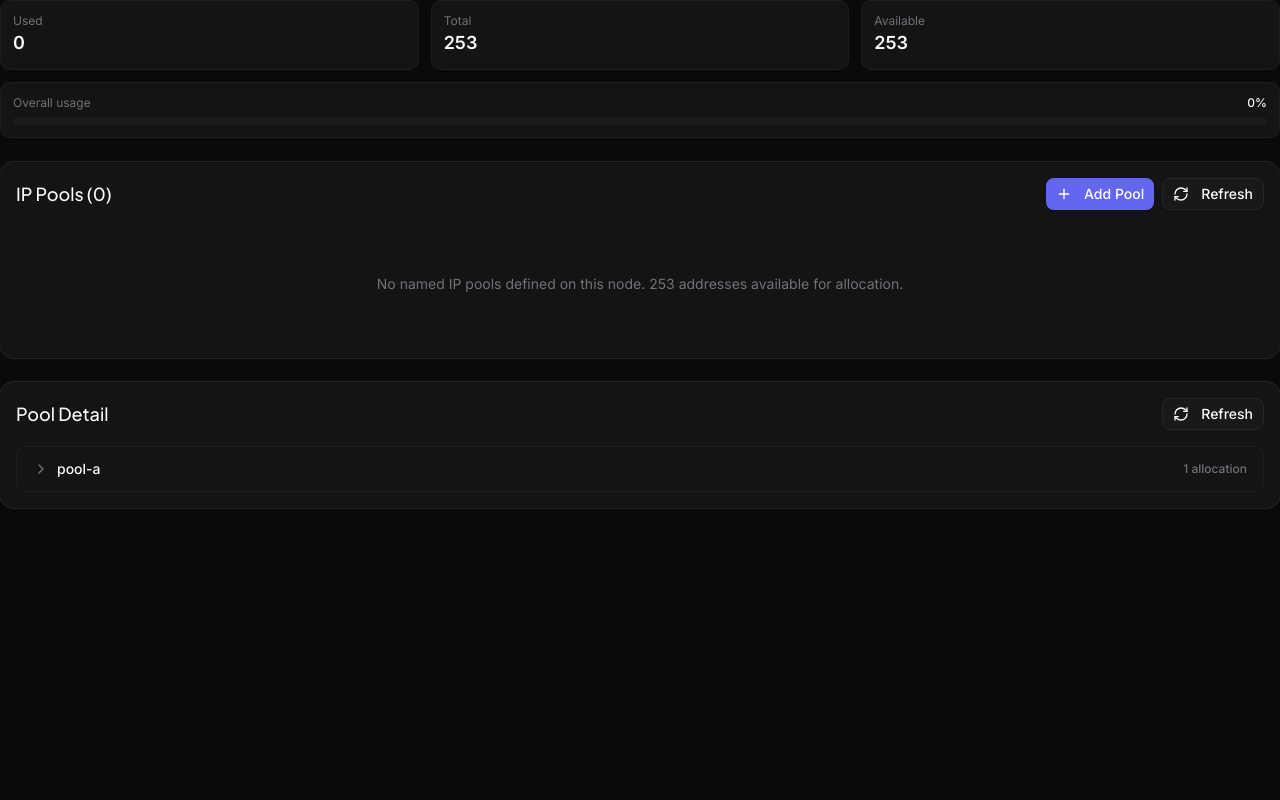
Test case: IpPoolPage pool detail › expands and collapses a pool accordion
Check: the text "alice" is not shown
# Click to expand
Click the text "pool-a".
click(79, 469)  # box [57,459,100,479]
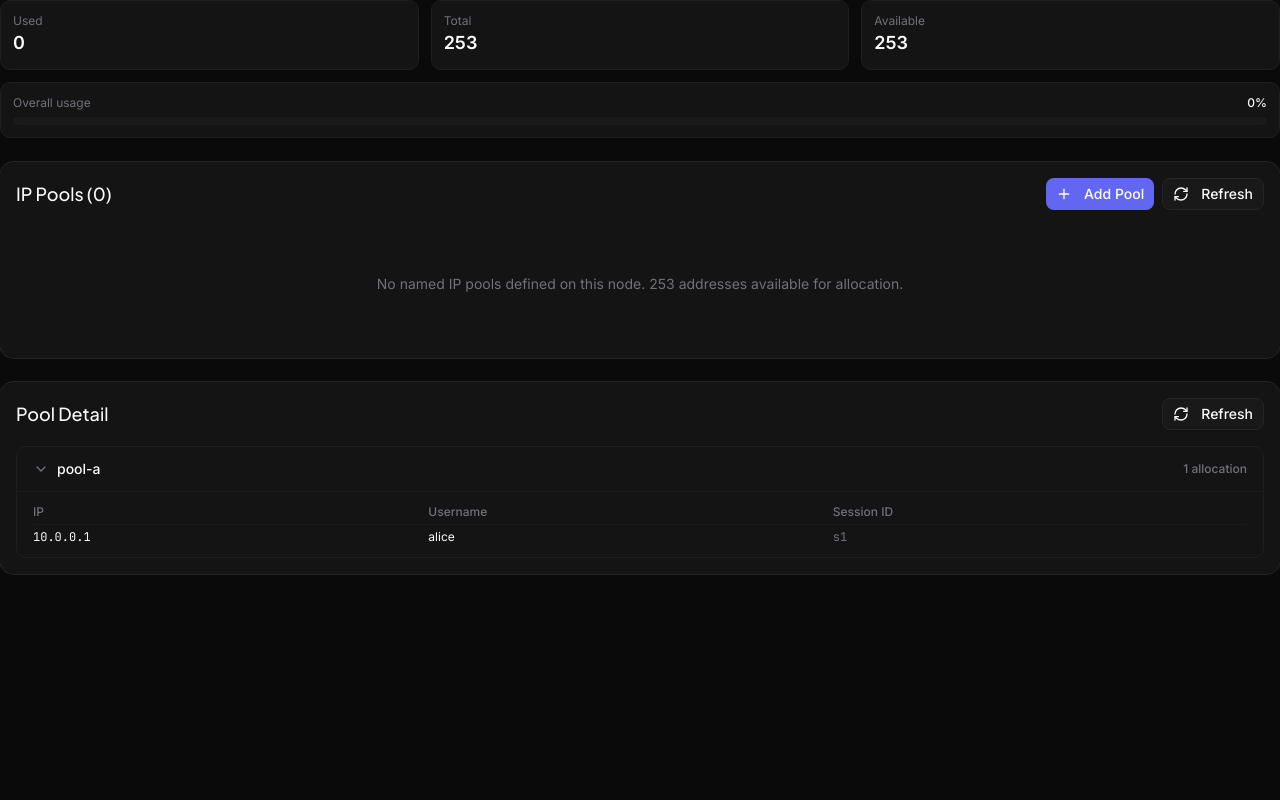
Check: the text "alice" is shown, box [428,524,833,549]
Check: the text "10.0.0.1" is shown, box [33,524,428,549]
Check: the text "s1" is shown, box [833,524,1247,549]
# Click again to collapse
Click the text "pool-a".
click(79, 469)  # box [57,459,100,479]
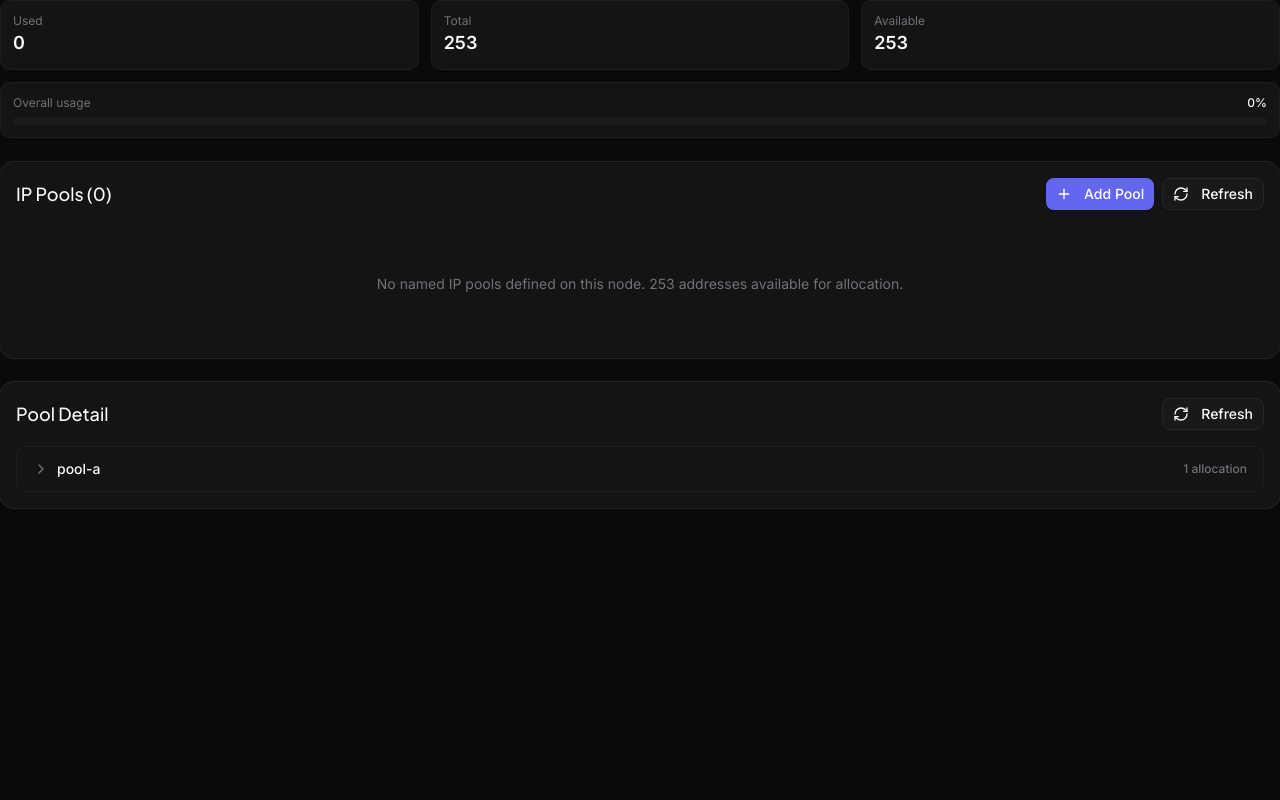
Check: the text "alice" is gone
